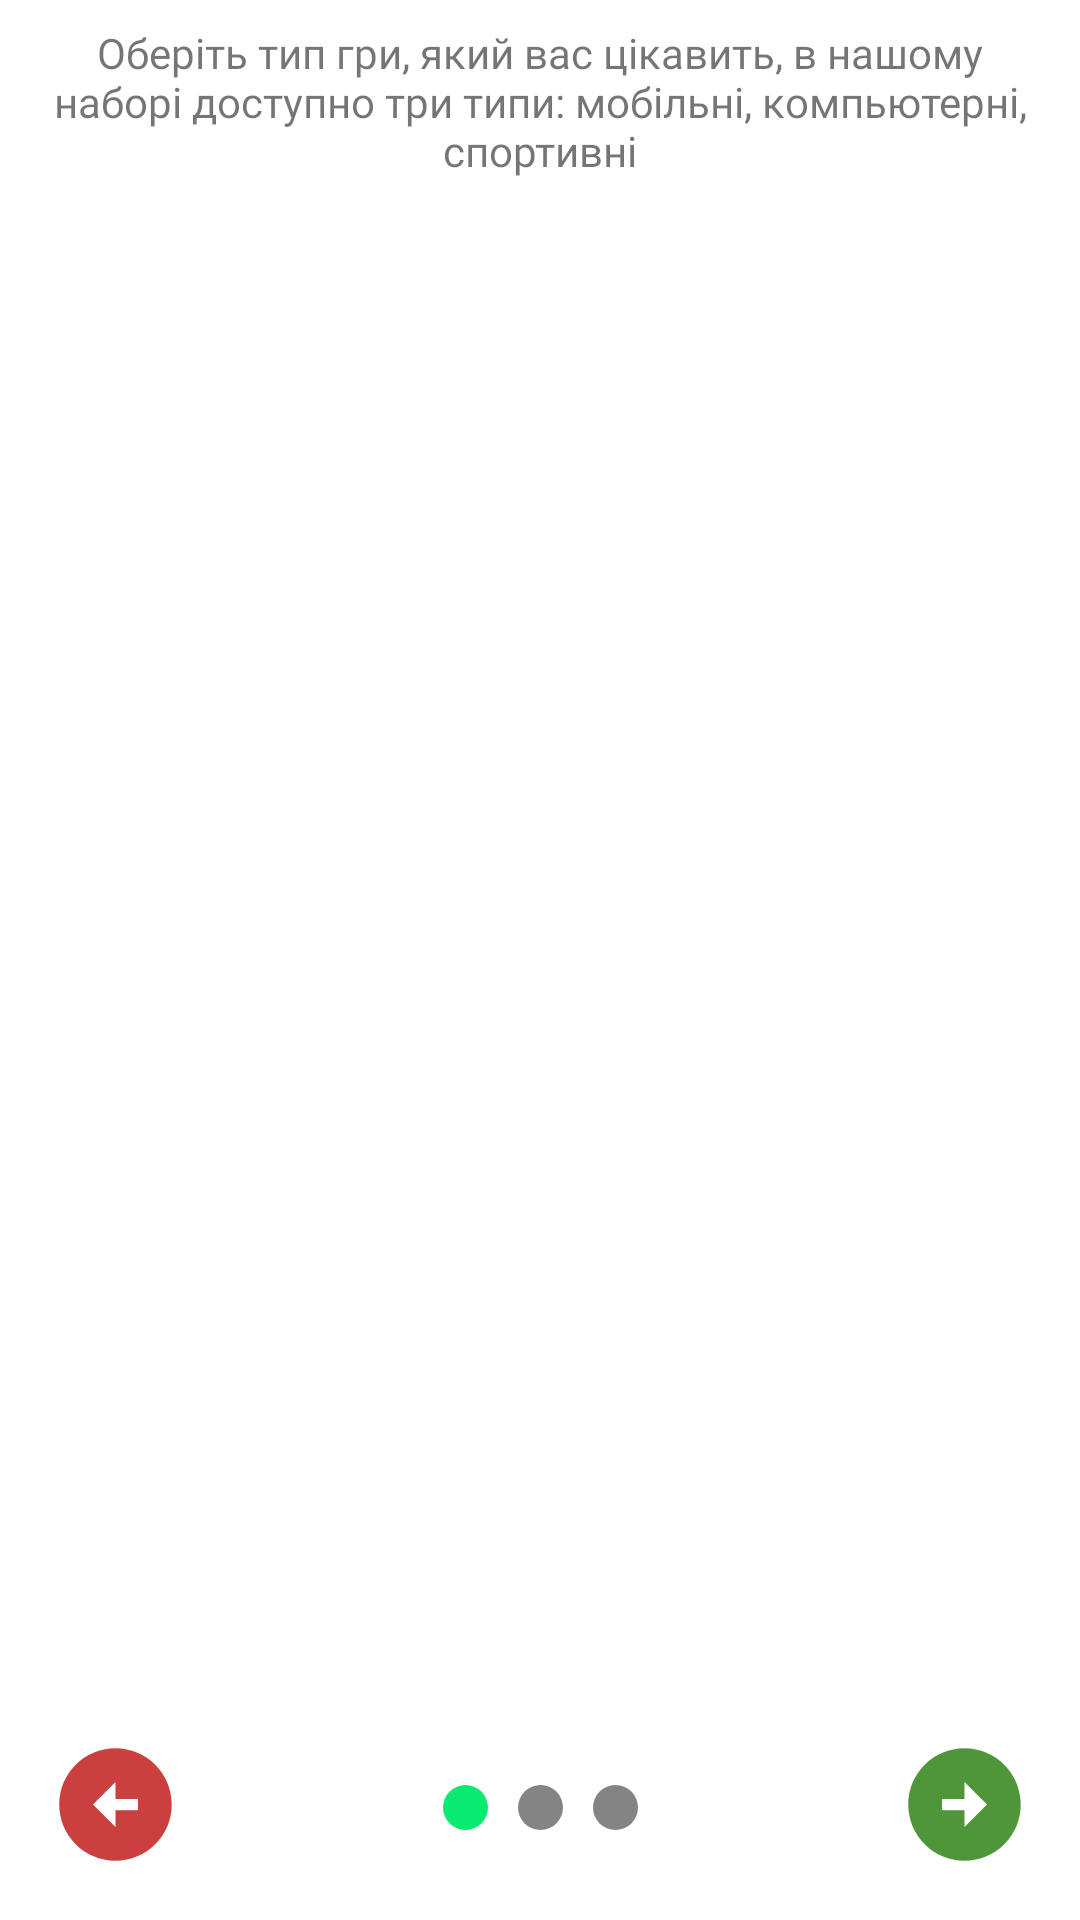

Screen size 1080px×1920px. Icon name, then its center in pixels as [x,y]:
left: [115,1804]
right: [964,1804]
